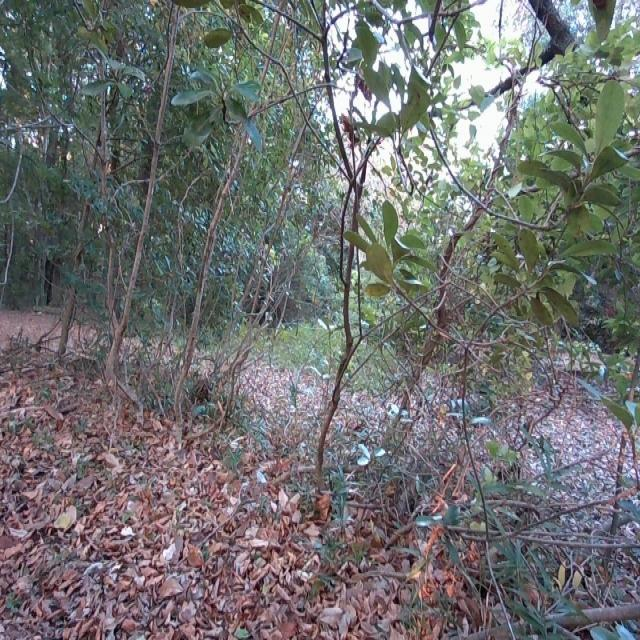bush: (310, 0, 640, 506), (54, 0, 317, 427)
